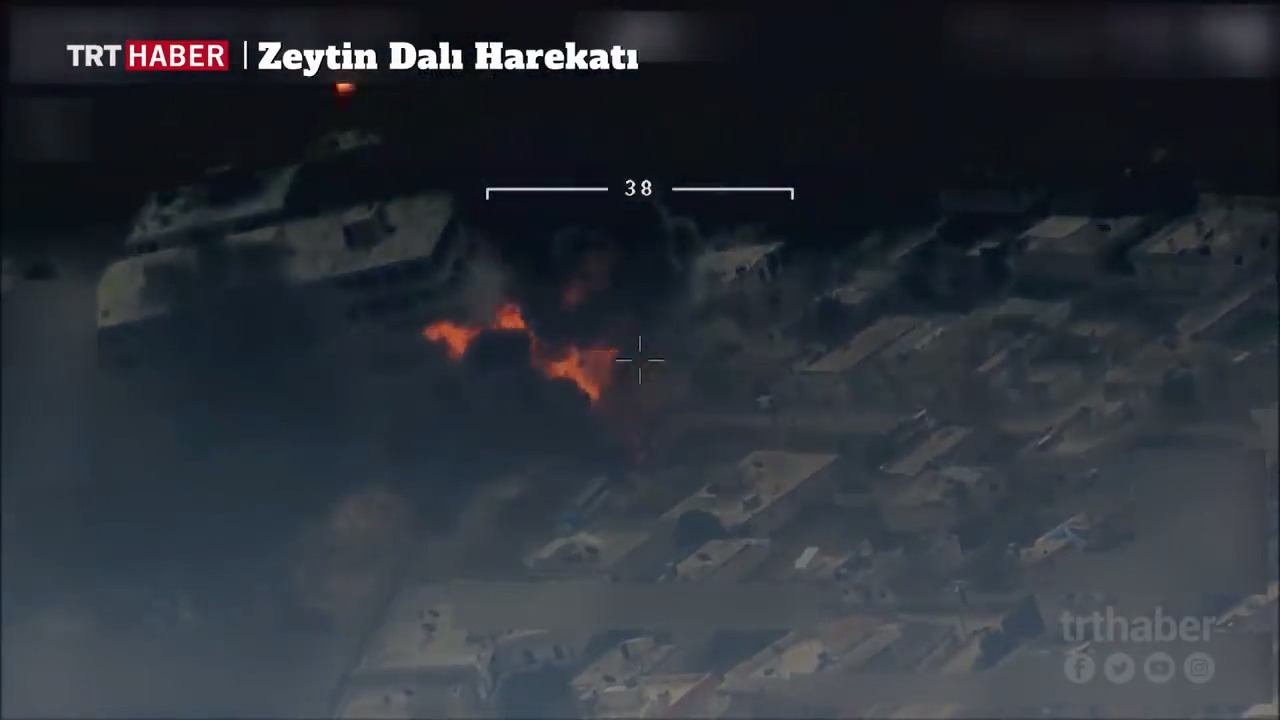bina: (657, 441, 860, 537)
